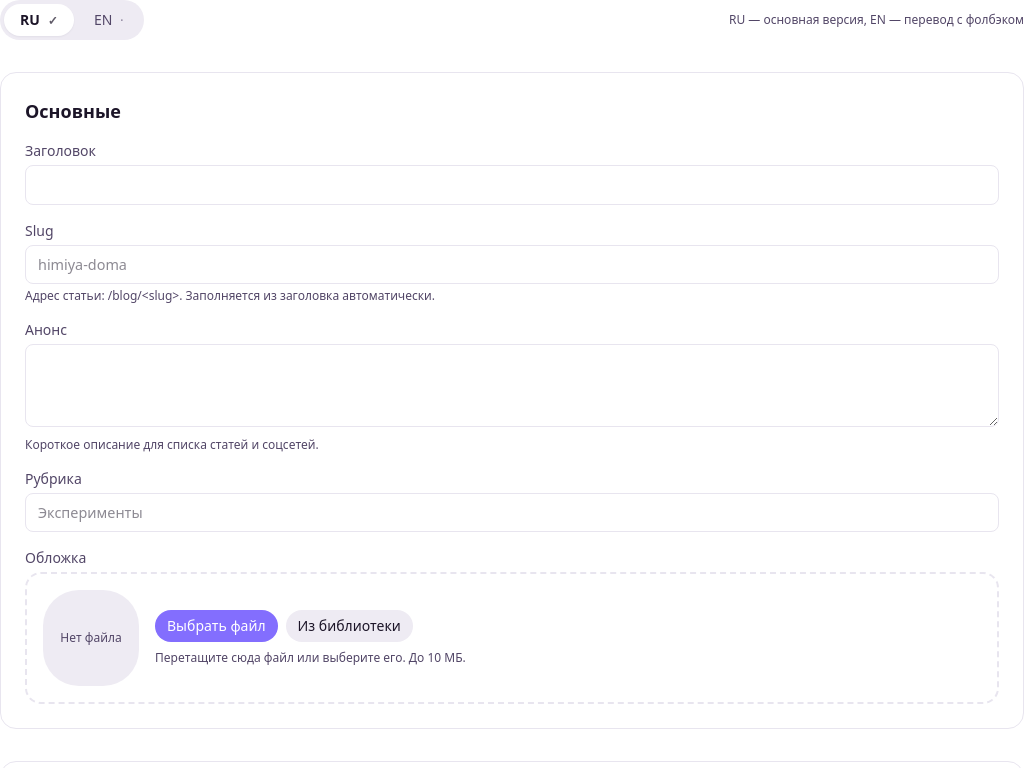
it: BlogPostForm › автор статьи › не даёт сохранить ссылку не на http(s)
Step 1. Type "Химия дома" into the field labelled "Заголовок" → (512, 185), box [25,165,999,205]
(page scrolled)
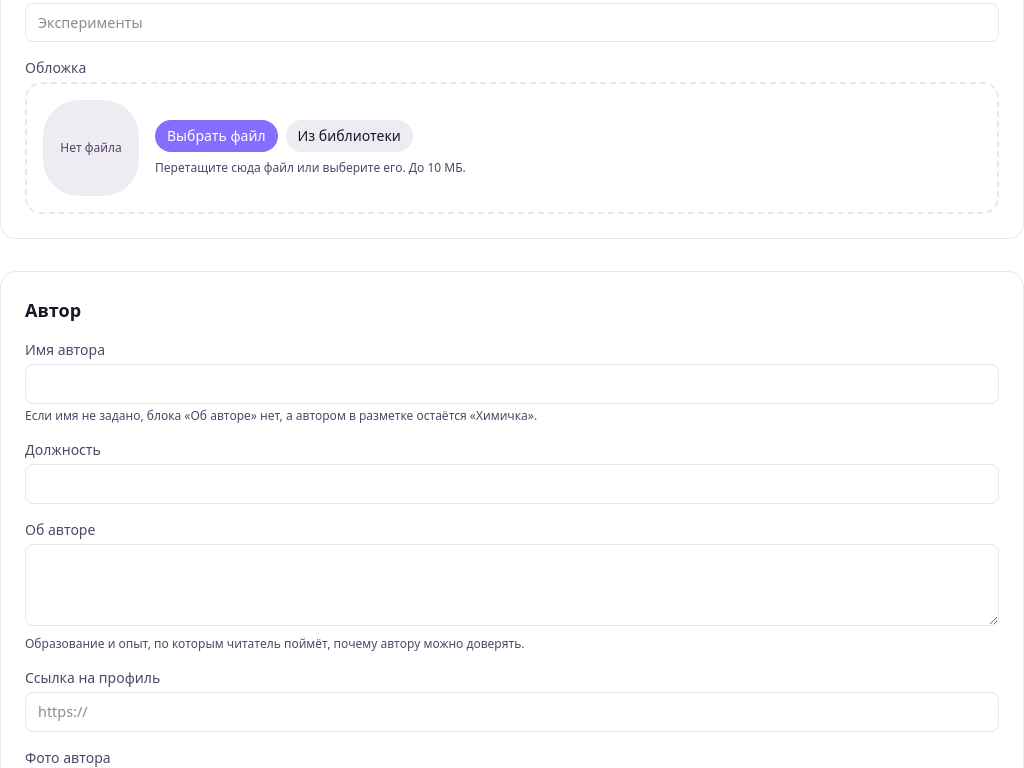
Step 2. Type "Имя" into the field labelled "Имя автора" → (512, 384), box [25,364,999,404]
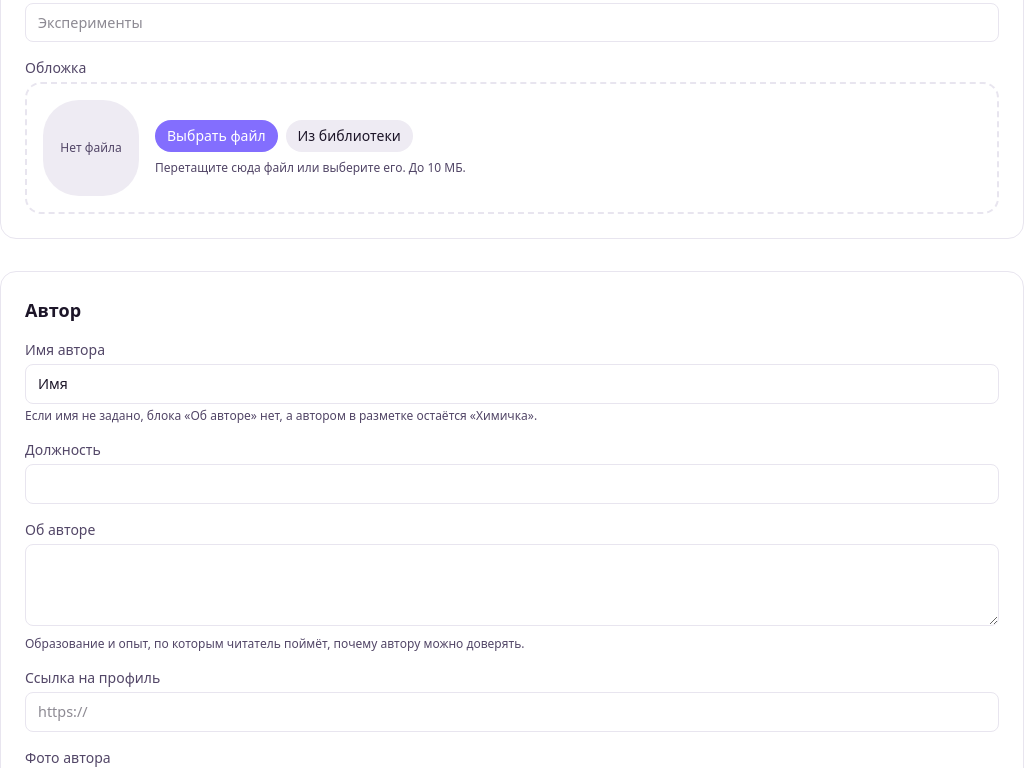
Step 3. Type "javascript:alert(1)" into the field labelled "Ссылка на профиль" → (512, 712), box [25,692,999,732]
(page scrolled)
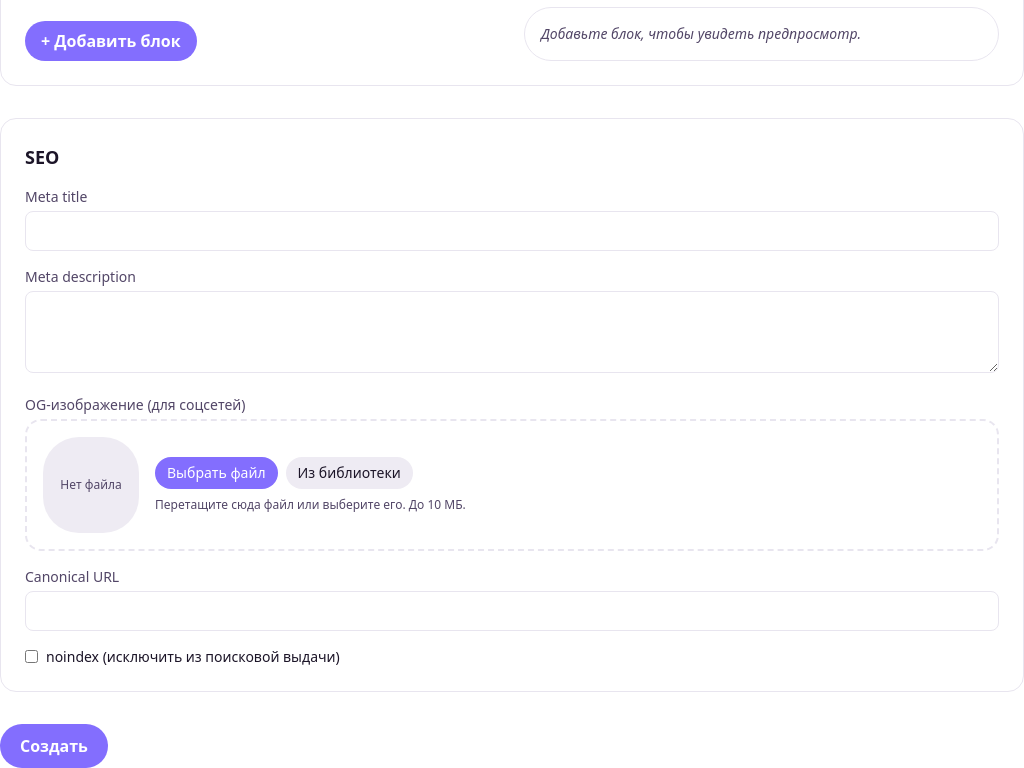
Step 4. Click the button "Создать" → (54, 746), box [0,724,108,767]
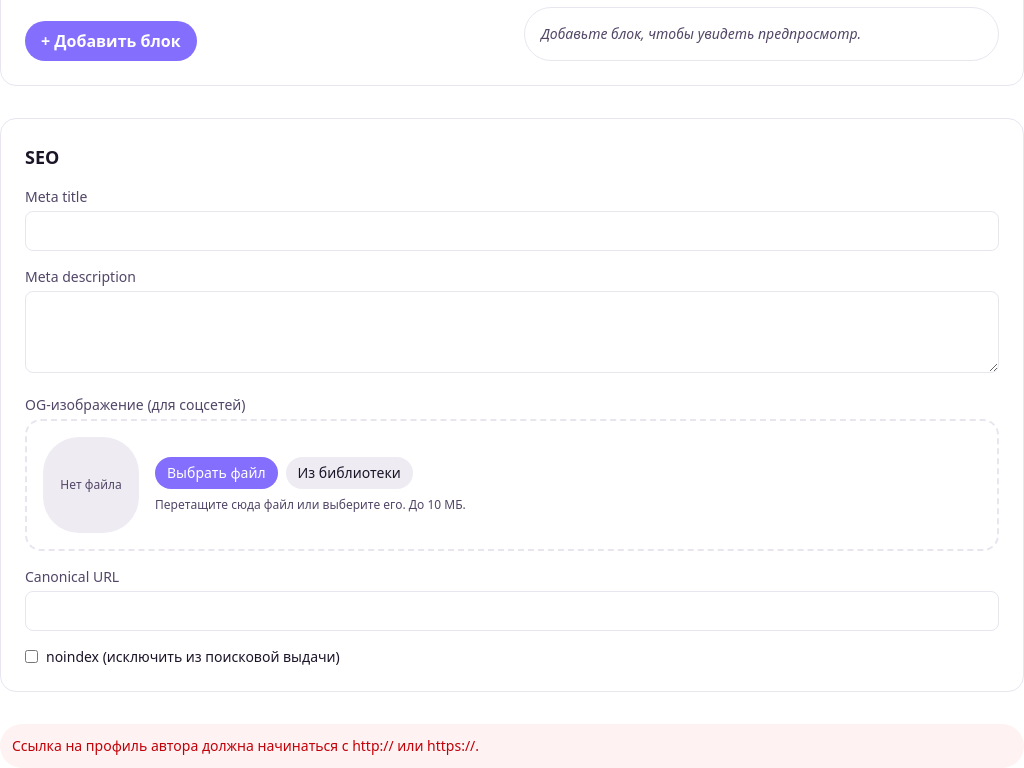
Check: the message shows "http", box [12,736,479,755]
